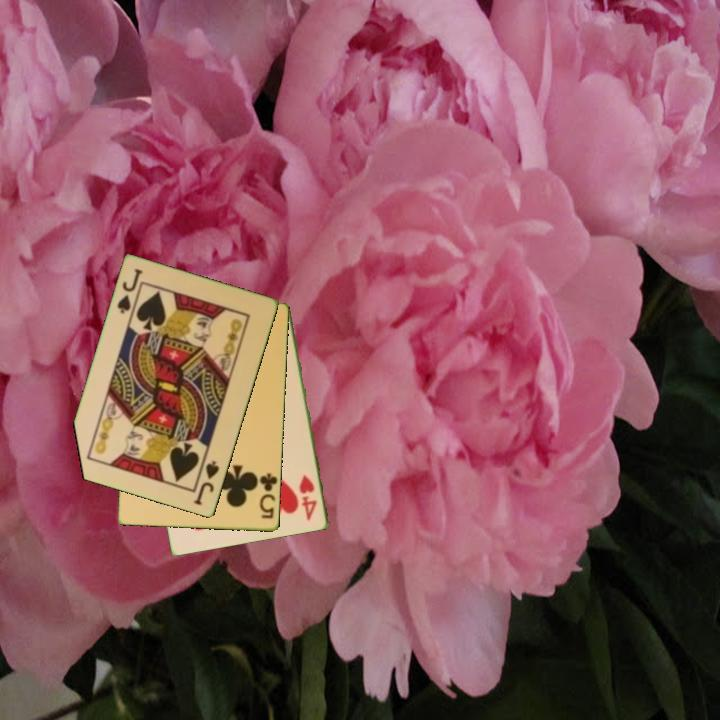4h: (296, 471, 320, 524)
5c: (254, 470, 280, 522)
Js: (114, 265, 146, 319), (191, 457, 223, 509)
